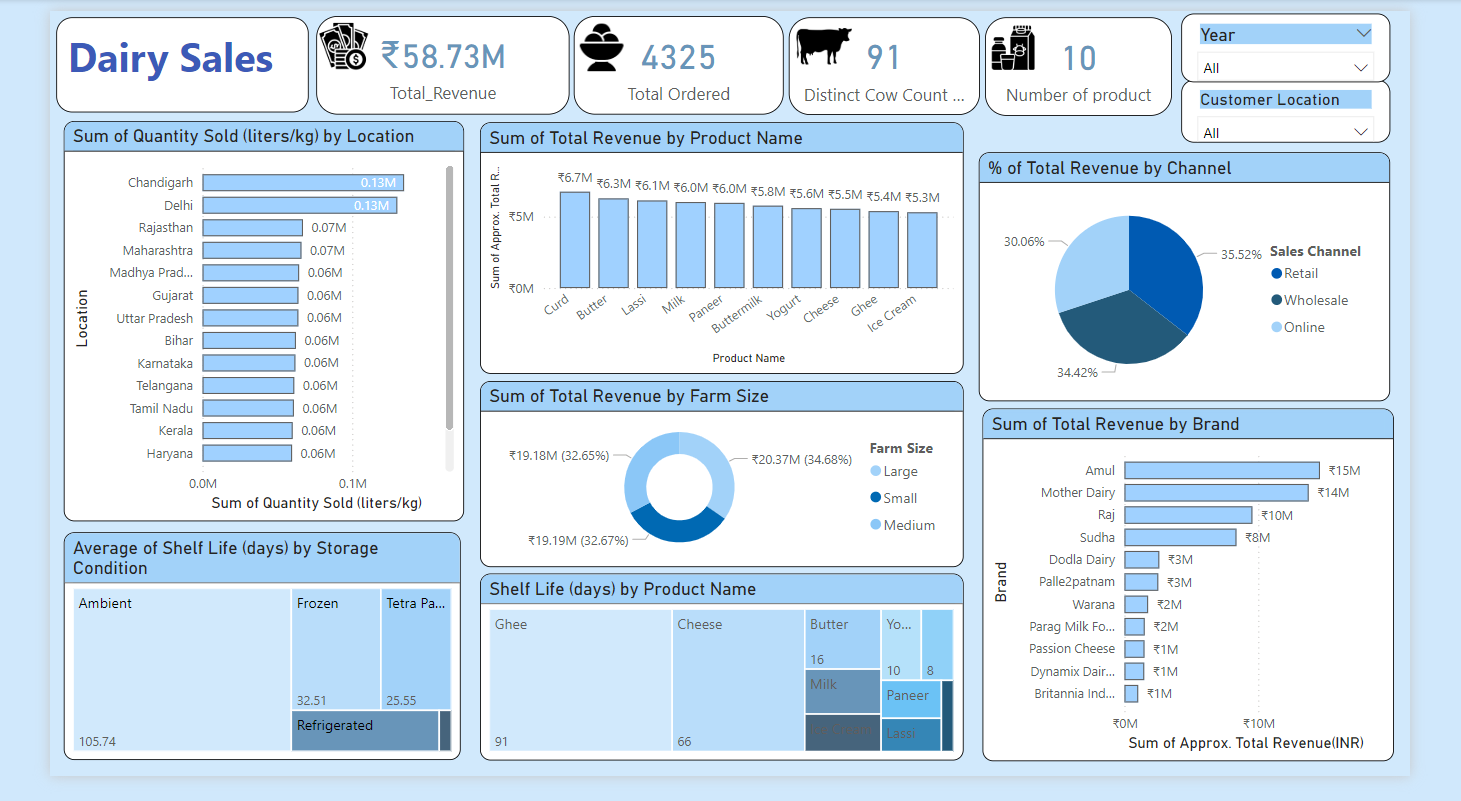

This screenshot's page, from the dashboard's own definition file:
{"tool":"powerbi","page":{"name":"Page 1","canvas":[1280,720],"ordinal":0},"visuals":[{"type":"donutChart","title":"Sum of Total Revenue by Farm Size","fields":{"Category":["dairy_dataset (1).Farm Size"],"Y":["Sum(dairy_dataset (1).Approx. Total Revenue(INR))"]},"box":[404.2,348.7,454.8,174.9],"z":0},{"type":"treemap","title":"     Shelf Life (days) by Product Name","fields":{"Group":["dairy_dataset (1).Product Name"],"Values":["Count(dairy_dataset (1).Shelf Life (days))"]},"box":[404.2,529.6,454.8,176.1],"z":1000},{"type":"treemap","fields":{"Group":["dairy_dataset (1).Storage Condition"],"Values":["Avg(dairy_dataset (1).Shelf Life (days))"]},"box":[13.3,491,374,214.7],"z":2000},{"type":"barChart","title":"Sum of Total Revenue by Brand","fields":{"Category":["dairy_dataset (1).Brand"],"Y":["Sum(dairy_dataset (1).Approx. Total Revenue(INR))"]},"box":[877.1,374,387.3,331.8],"z":3000},{"type":"slicer","fields":{"Values":["dairy_dataset (1).Customer Location"]},"box":[1065.3,65.1,196.6,59.1],"z":4000},{"type":"card","title":"Total_Revenue","fields":{"Values":["dairy_dataset (1).Total_Revenue"]},"box":[250,5,238.8,92.5],"z":5000},{"type":"slicer","fields":{"Values":["dairy_dataset (1).Year"]},"box":[1065.3,2.4,196.6,65.1],"z":6000},{"type":"card","title":" Cow Count","fields":{"Values":["dairy_dataset (1).Distinct Cow Count"]},"box":[694.9,6,179.8,91.7],"z":7000},{"type":"card","title":"Product Number ","fields":{"Values":["dairy_dataset (1).Number of product"]},"box":[879.5,6,176.1,92.9],"z":8000},{"type":"columnChart","title":"Sum of Total Revenue by Product Name","fields":{"Y":["Sum(dairy_dataset (1).Approx. Total Revenue(INR))"],"Category":["dairy_dataset (1).Product Name"]},"box":[404.2,105,454.8,236.5],"z":9000},{"type":"pieChart","title":"% of Total Revenue  by  Channel","fields":{"Y":["Sum(dairy_dataset (1).Approx. Total Revenue(INR))"],"Category":["dairy_dataset (1).Sales Channel"]},"box":[874.7,132.7,387.3,234],"z":10000},{"type":"barChart","fields":{"Y":["Sum(dairy_dataset (1).Quantity Sold (liters/kg))"],"Category":["dairy_dataset (1).Location"]},"box":[13.3,103.8,376.4,376.4],"z":11000},{"type":"card","title":"Total Ordered","fields":{"Values":["dairy_dataset (1).Total Ordered"]},"box":[493.4,4.8,197.9,92.9],"z":12000},{"type":"image","box":[875.9,8.4,62.7,53.1],"z":13000},{"type":"image","box":[238.9,3.6,74.8,59.1],"z":14000},{"type":"image","box":[690.1,2.4,76,61.5],"z":15000},{"type":"textbox","box":[6.1,6.1,237.2,89.3],"z":16000},{"type":"image","box":[480.2,7.2,78.4,54.3],"z":17000}]}

Visuals, with their boxes in screenshot pixels (x1, y1, x2, y2), scaled from the page's 1280x720 canvas onto the 1461x801 screenshot:
"Sum of Total Revenue by Farm Size" donutChart: {"x1": 461, "y1": 388, "x2": 980, "y2": 583}
"     Shelf Life (days) by Product Name" treemap: {"x1": 461, "y1": 589, "x2": 980, "y2": 785}
treemap - dairy_dataset (1).Storage Condition x Avg(dairy_dataset (1).Shelf Life (days)): {"x1": 15, "y1": 546, "x2": 442, "y2": 785}
"Sum of Total Revenue by Brand" barChart: {"x1": 1001, "y1": 416, "x2": 1443, "y2": 785}
slicer - dairy_dataset (1).Customer Location: {"x1": 1216, "y1": 72, "x2": 1440, "y2": 138}
"Total_Revenue" card: {"x1": 285, "y1": 6, "x2": 558, "y2": 108}
slicer - dairy_dataset (1).Year: {"x1": 1216, "y1": 3, "x2": 1440, "y2": 75}
" Cow Count" card: {"x1": 793, "y1": 7, "x2": 998, "y2": 109}
"Product Number " card: {"x1": 1004, "y1": 7, "x2": 1205, "y2": 110}
"Sum of Total Revenue by Product Name" columnChart: {"x1": 461, "y1": 117, "x2": 980, "y2": 380}
"% of Total Revenue  by  Channel" pieChart: {"x1": 998, "y1": 148, "x2": 1440, "y2": 408}
barChart - Sum(dairy_dataset (1).Quantity Sold (liters/kg)) x dairy_dataset (1).Location: {"x1": 15, "y1": 115, "x2": 445, "y2": 534}
"Total Ordered" card: {"x1": 563, "y1": 5, "x2": 789, "y2": 109}
image: {"x1": 1000, "y1": 9, "x2": 1071, "y2": 68}
image: {"x1": 273, "y1": 4, "x2": 358, "y2": 70}
image: {"x1": 788, "y1": 3, "x2": 874, "y2": 71}
textbox: {"x1": 7, "y1": 7, "x2": 278, "y2": 106}
image: {"x1": 548, "y1": 8, "x2": 638, "y2": 68}
